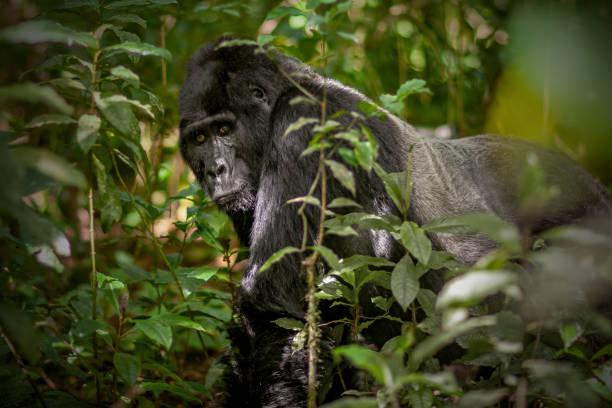goriile_montagne: (176, 14, 612, 399)
